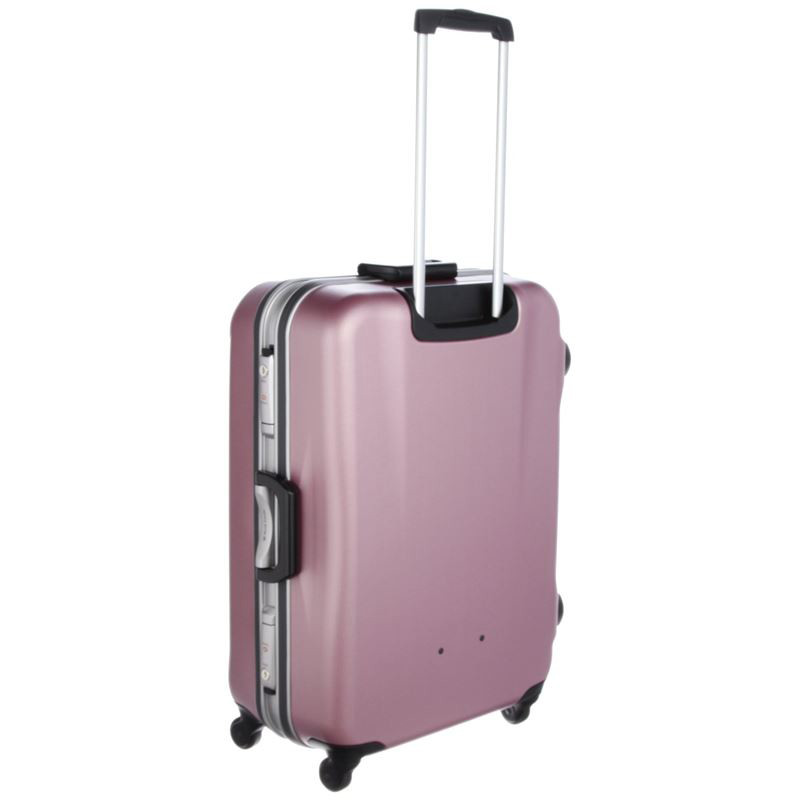suitcase: (224, 8, 567, 792)
